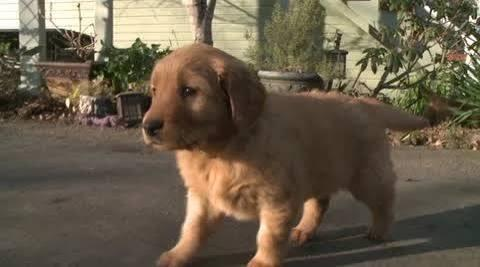puppy-dog: (139, 41, 430, 267)
